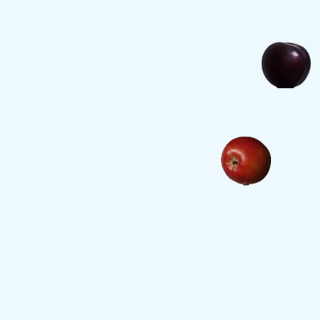Apple Braeburn: (220, 135, 270, 185)
Cherry Wax Black: (260, 39, 310, 89)
